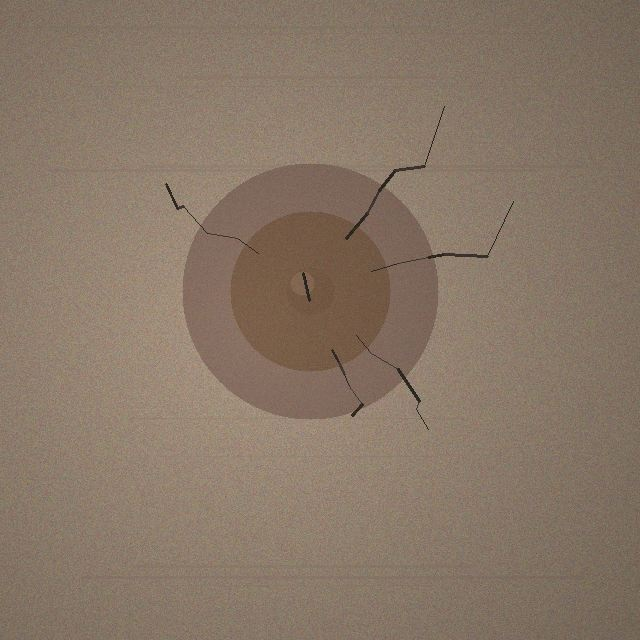crack: (182, 163, 438, 419)
